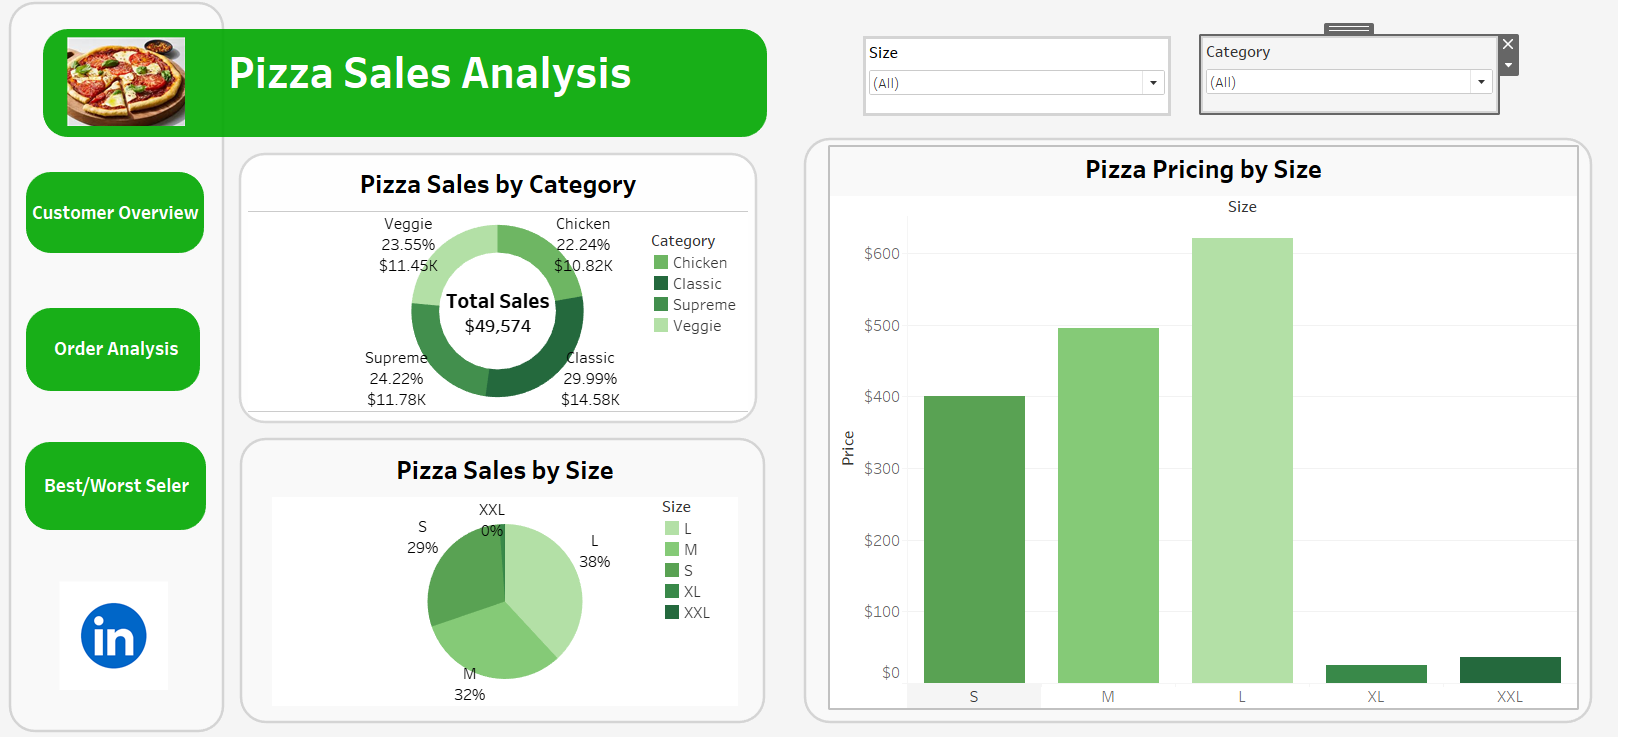

The dashboard page shown, as its layout file describes it:
{"tool":"tableau","page":{"name":"Dashboard 2","canvas":[1000,1000],"units":"permille","ordinal":1},"visuals":[{"type":"worksheet","title":"Sheet 13","mark":"Automatic","box":[4.2,8.1,991.7,983.9]},{"type":"filter","title":"Sheet 5","param":"[federated.1ea9vyd142ww8914ji4cc0mox5cg].[none:size:nk]","box":[537.1,69.9,185.9,99.9]},{"type":"filter","title":"Sheet 4","param":"[federated.1ea9vyd142ww8914ji4cc0mox5cg].[none:category:nk]","box":[741.1,69.9,179.2,96.1]},{"type":"image","param":"C:/Users/iT/Downloads/pizza.jpg","box":[56.7,71.2,82.1,111.1]},{"type":"worksheet","title":"Sheet 17","mark":"Automatic","box":[151.5,71.2,333.1,123.6]},{"type":"worksheet","title":"Sheet 6","mark":"Automatic","rows":["price"],"cols":["size"],"box":[517.2,208.5,450.8,700.4]},{"type":"worksheet","title":"Sheet 4","mark":"Pie","rows":["Calculation_329888722093359114","Calculation_329888722097422350"],"box":[166,227.2,301.8,312.1]},{"type":"dashboard-object","box":[30.2,257.2,111.7,64.9]},{"type":"legend","title":"Sheet 4","param":"[federated.1ea9vyd142ww8914ji4cc0mox5cg].[none:category:nk]","box":[409.2,312.1,84.5,132.3]},{"type":"dashboard-object","box":[36.8,427,99,64.9]},{"type":"worksheet","title":"Sheet 5","mark":"Pie","box":[180.5,584.3,281.2,322.1]},{"type":"dashboard-object","box":[37.4,598,99,64.9]},{"type":"legend","title":"Sheet 5","param":"[federated.1ea9vyd142ww8914ji4cc0mox5cg].[none:size:nk]","box":[415.8,644.2,84.5,158.6]},{"type":"image","param":"C:/Users/iT/Downloads/linkedin.png","box":[51.9,750.3,93.5,136.1]}]}

Visuals, with their boxes on the dashboard's canvas, which has no fixed pixel size, in thousandths of its width and height (x1, y1, x2, y2). These are canvas units, not pixel positions in the 1630x737 screenshot, which may show the page scaled, cropped or inside an application window:
"Sheet 13" worksheet: (4, 8, 996, 992)
"Sheet 5" filter: (537, 70, 723, 170)
"Sheet 4" filter: (741, 70, 920, 166)
image: (57, 71, 139, 182)
"Sheet 17" worksheet: (152, 71, 485, 195)
"Sheet 6" worksheet: (517, 208, 968, 909)
"Sheet 4" worksheet (Pie marks): (166, 227, 468, 539)
dashboard-object: (30, 257, 142, 322)
"Sheet 4" legend: (409, 312, 494, 444)
dashboard-object: (37, 427, 136, 492)
"Sheet 5" worksheet (Pie marks): (180, 584, 462, 906)
dashboard-object: (37, 598, 136, 663)
"Sheet 5" legend: (416, 644, 500, 803)
image: (52, 750, 145, 886)
